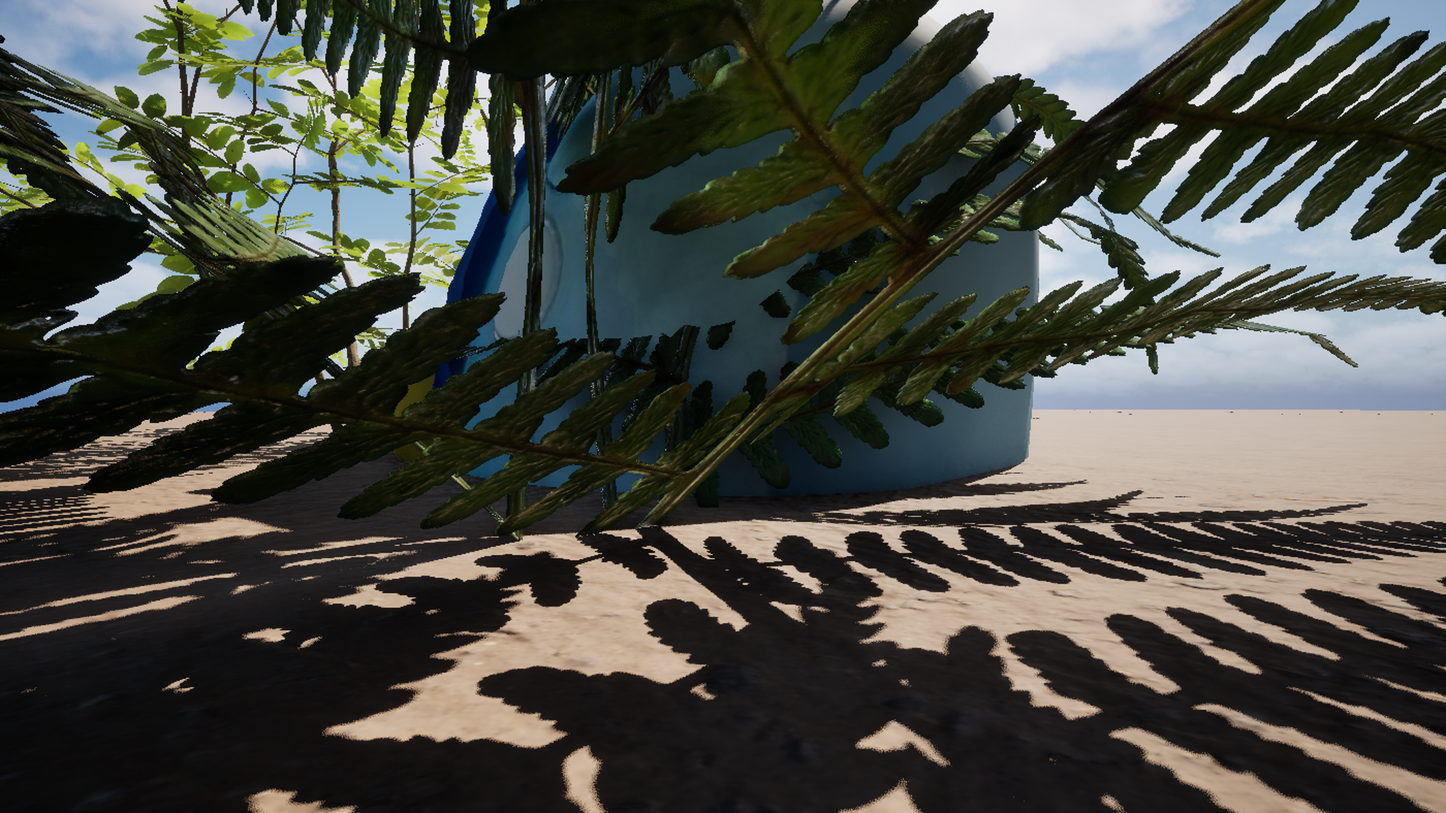Piplup: (318, 0, 1171, 813)
